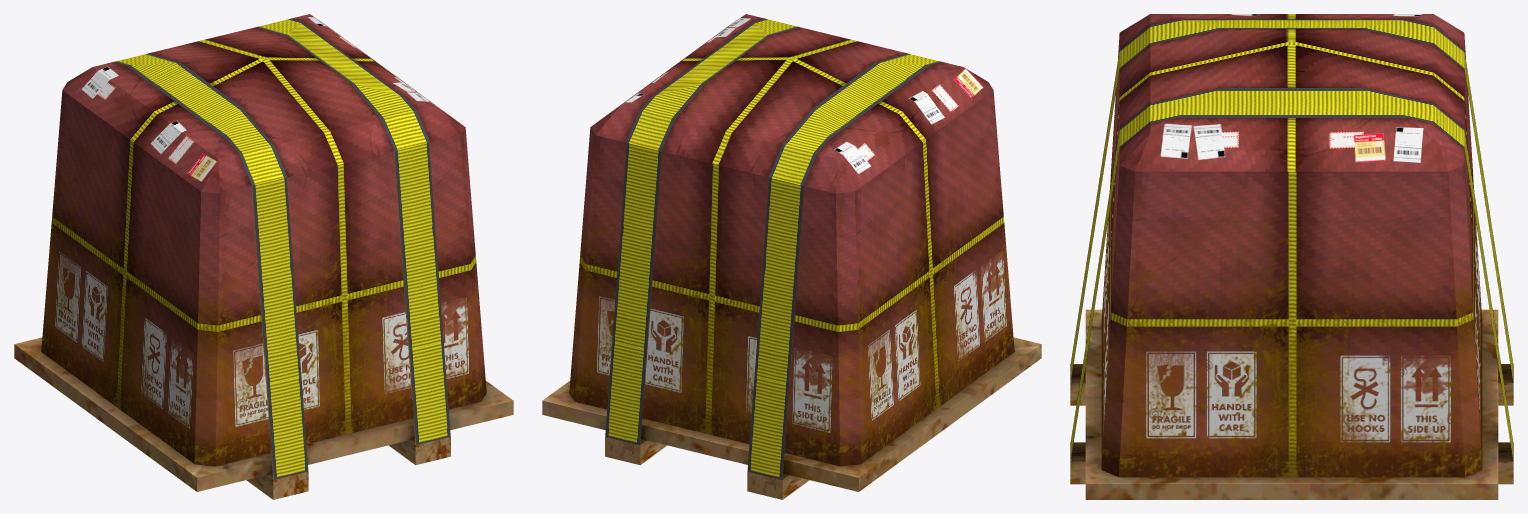
File: Cargo_Pack_02.fbx
3 renders of one model, left to right at view 1: azimuth 30°, elevation 25°; view 2: azimuth 150°, elevation 25°; view 3: azimuth 270°, elevation 25°, orthographic. The views are drawn at different scales.
Visible parts, largest first — view 1: Cargo_Pack_02; view 2: Cargo_Pack_02; view 3: Cargo_Pack_02.
Boxes of the visible parts, box(x1,y1,x2,y2) form: Cargo_Pack_02: box(14, 14, 513, 499); Cargo_Pack_02: box(542, 14, 1041, 499); Cargo_Pack_02: box(1070, 14, 1513, 499).
Size of the model in its own units: 13.56 by 14.24 by 14.56.
